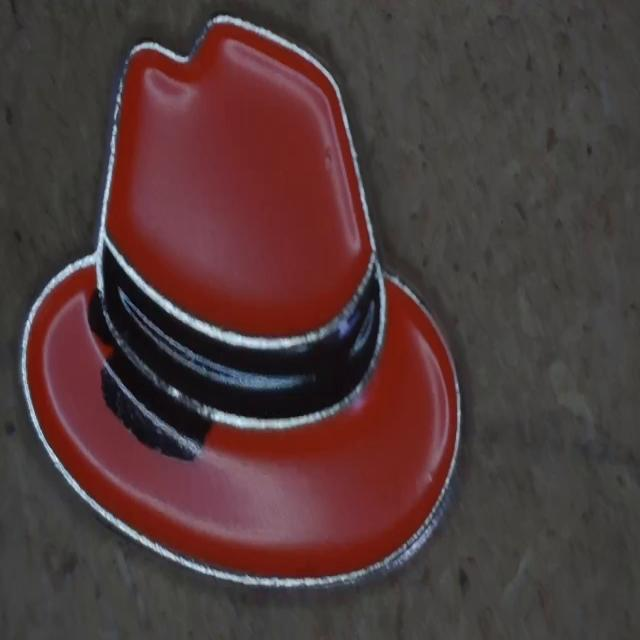Hatband: (101, 240, 384, 420)
Paint_Leak: (89, 291, 211, 460)
RedHatPin: (21, 18, 459, 584)
